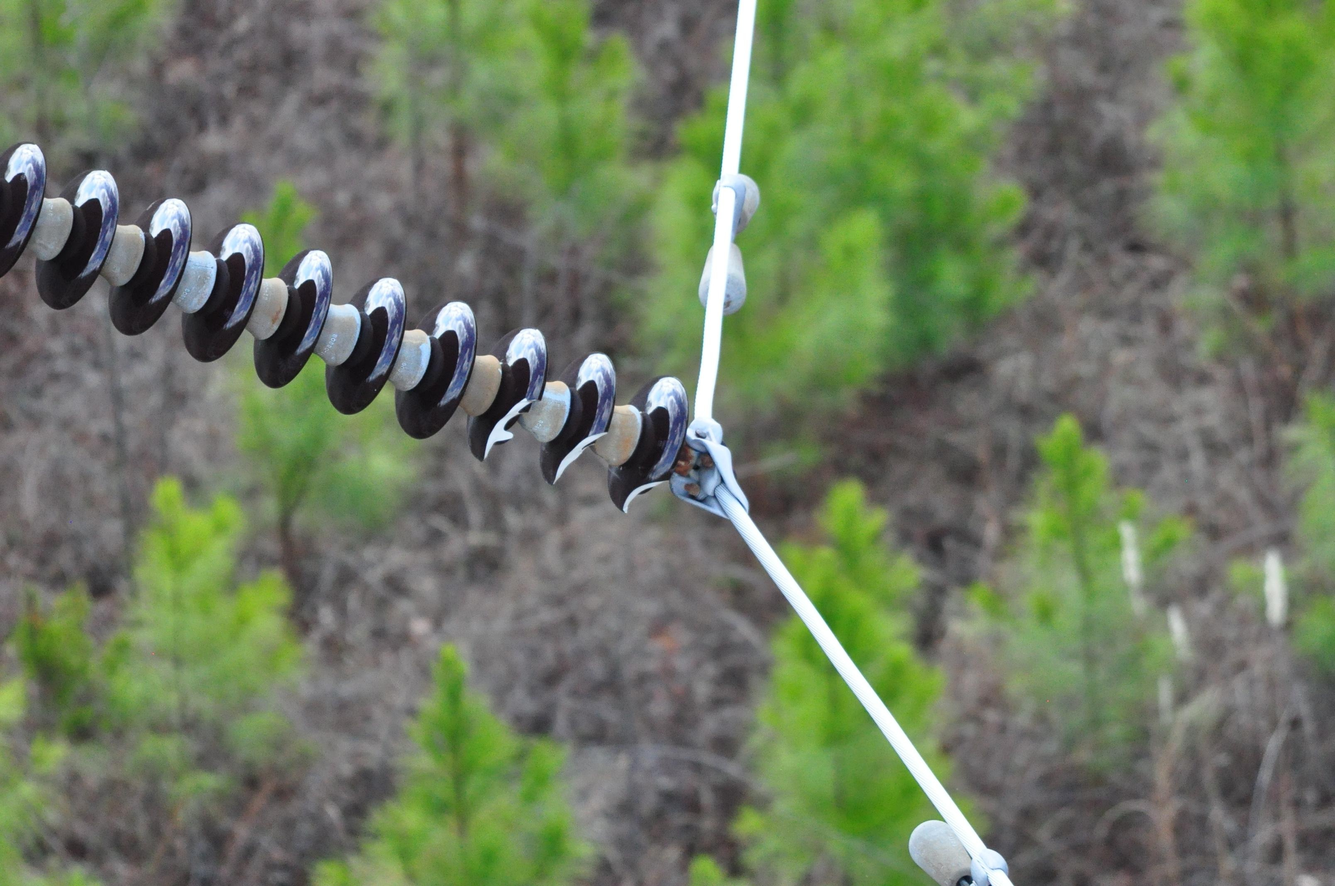damaged: (469, 378, 536, 460), (545, 414, 617, 484), (616, 453, 681, 513)
hammer: (698, 171, 773, 309), (912, 803, 1018, 886)
insulator: (0, 145, 687, 513)
